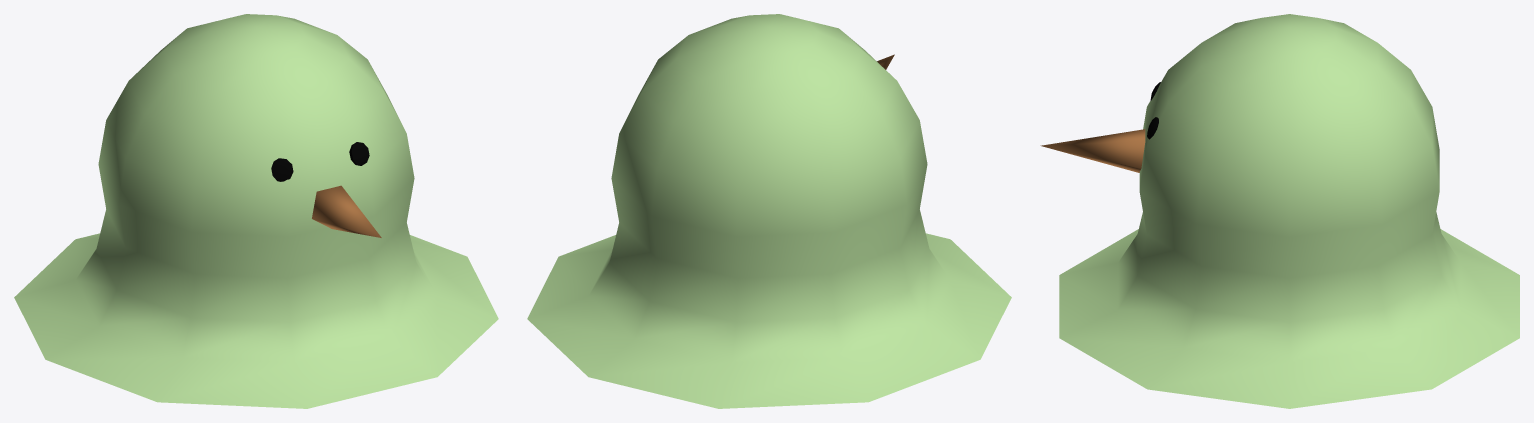
The model's file is GooBoi.fbx.
3 renders of one model, left to right at view 1: azimuth 30°, elevation 25°; view 2: azimuth 150°, elevation 25°; view 3: azimuth 270°, elevation 25°, orthographic.
Parts seen in each view (by area): view 1: pSphere1, pCone1; view 2: pSphere1; view 3: pSphere1, pCone1.
Boxes of the visible parts, <box> form: pSphere1: <box>14,14,498,408</box>; pCone1: <box>312,185,381,237</box>; pSphere1: <box>527,14,1011,408</box>; pSphere1: <box>1059,14,1519,408</box>; pCone1: <box>1040,129,1145,172</box>.
Bounding box in the file's own units: 0.7669 × 0.5 × 0.7599.
